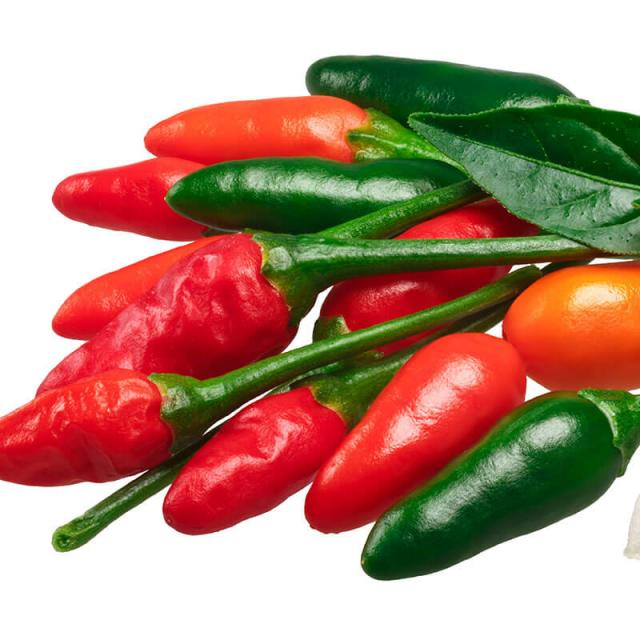chilli: (0, 371, 223, 488), (159, 375, 303, 532), (163, 152, 433, 230), (303, 46, 579, 113), (143, 95, 370, 155), (47, 160, 177, 239)
